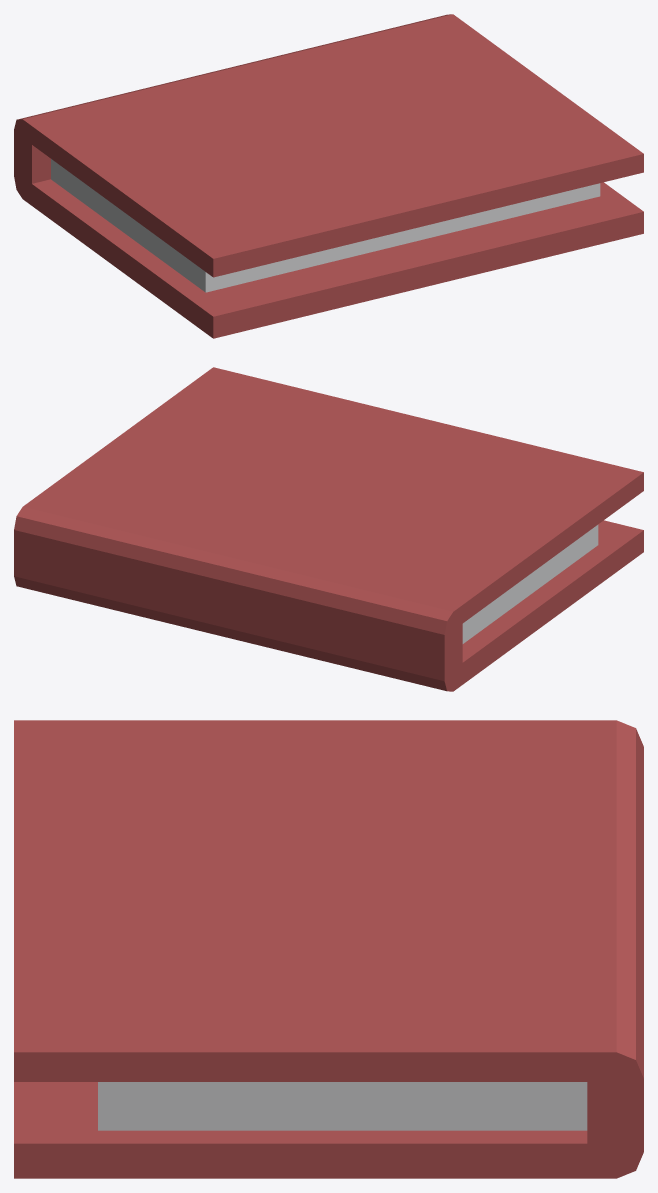
Rendered from O_Clutter_Book_Small1.fbx.
The picture shows the model from 3 angles, top to bottom: view 1: azimuth 30°, elevation 25°; view 2: azimuth 150°, elevation 25°; view 3: azimuth 270°, elevation 25°; orthographic projection. The views are drawn at different scales.
Parts seen in each view (by area): view 1: pCube25; view 2: pCube25; view 3: pCube25.
Boxes of the visible parts, x1,y1,x2,y2 form: pCube25: (14, 14, 643, 338); pCube25: (14, 367, 643, 691); pCube25: (14, 720, 643, 1178).
Size of the model in its own units: 0.4375 by 0.0775 by 0.3508.
